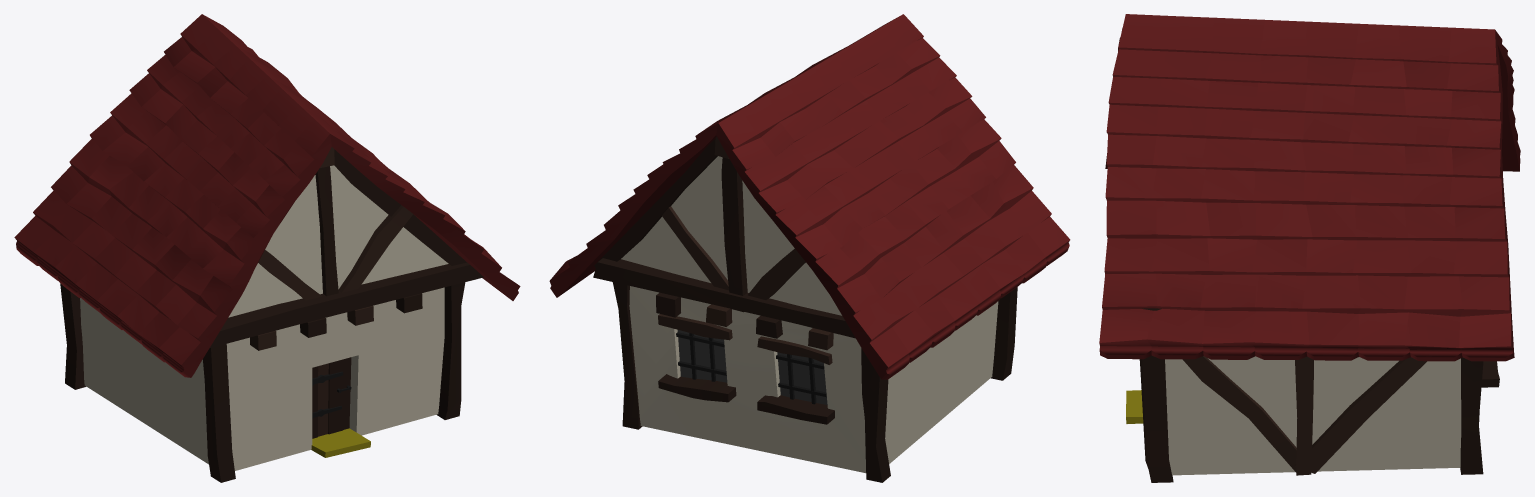
File: Building01.fbx
3 views of the same model, side by side, from view 1: azimuth 30°, elevation 25°; view 2: azimuth 150°, elevation 25°; view 3: azimuth 270°, elevation 25° (orthographic). The views are drawn at different scales.
Parts seen in each view (by area): view 1: BuildingHouse01; view 2: BuildingHouse01; view 3: BuildingHouse01.
Boxes of the visible parts, left/top/right/bottom form: BuildingHouse01: left=14, top=14, right=520, bottom=482; BuildingHouse01: left=549, top=14, right=1070, bottom=482; BuildingHouse01: left=1099, top=14, right=1520, bottom=482.
Size of the model in its own units: 2.32 by 2.07 by 2.04.
